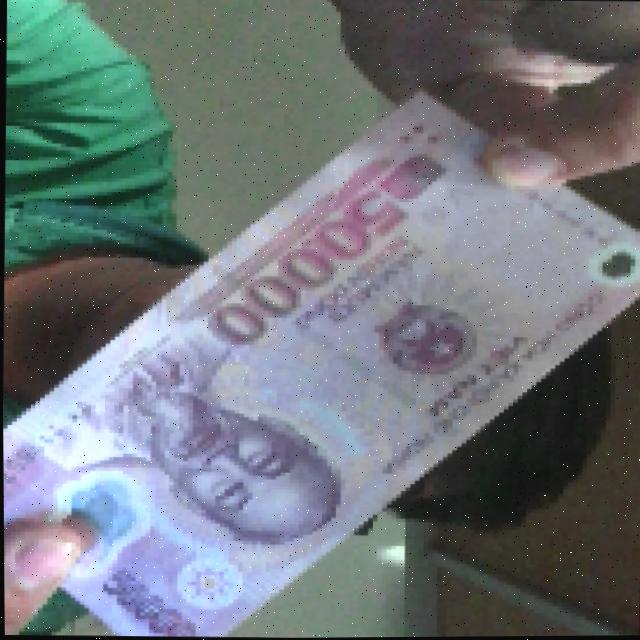50 000 VND: (0, 72, 640, 640)
